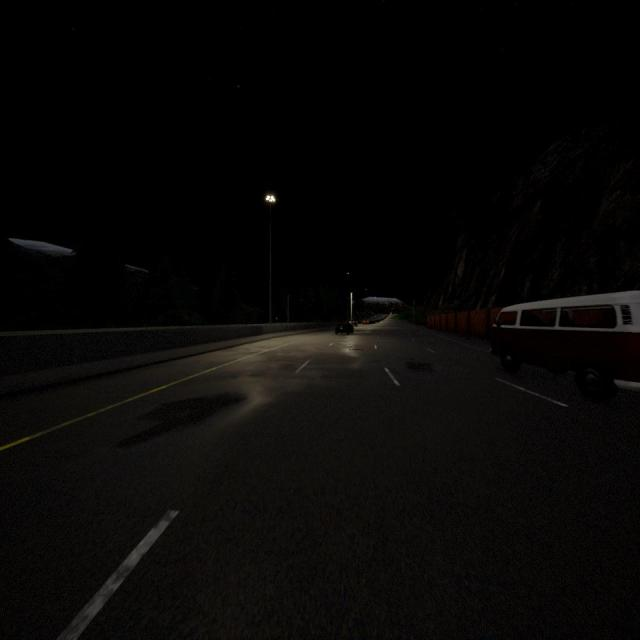Vehicle: (491, 291, 639, 397), (335, 322, 354, 335)
